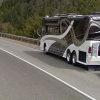buses: (39, 15, 99, 69)
